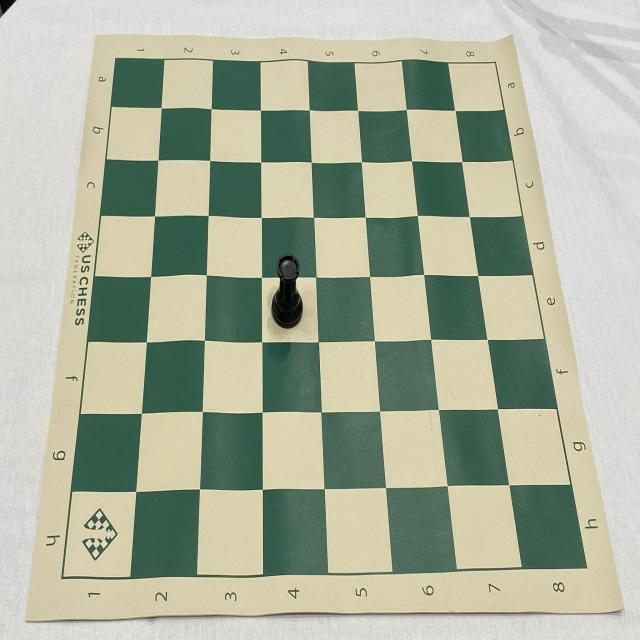black-rook: (270, 253, 304, 331)
